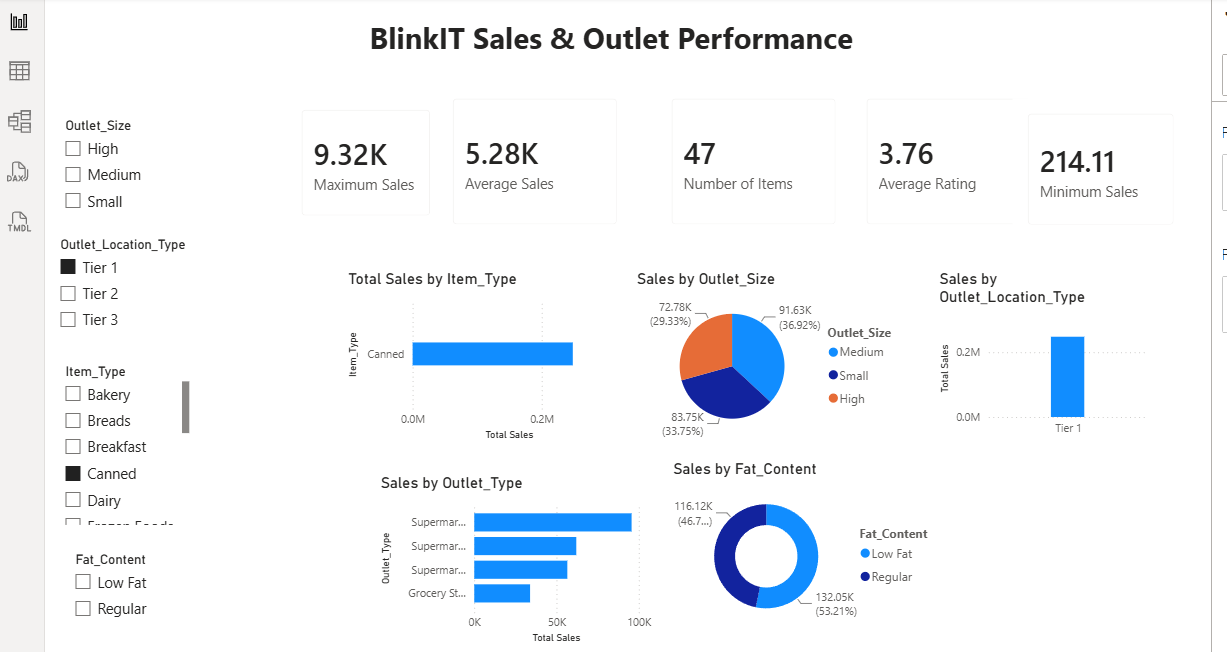

The dashboard page shown, as its layout file describes it:
{"tool":"powerbi","page":{"name":"Page 1","canvas":[1280,720],"ordinal":0},"visuals":[{"type":"cardVisual","fields":{"Data":["BlinkITData.Average Sales"]},"box":[430.9,94.7,214.1,172.9],"z":0},{"type":"cardVisual","fields":{"Data":["BlinkITData.Number of Items"]},"box":[671,94.7,214.1,172.9],"z":1000},{"type":"cardVisual","fields":{"Data":["BlinkITData.Average Rating"]},"box":[885.1,94.7,214.1,172.9],"z":2000},{"type":"donutChart","title":"Sales by Fat_Content","fields":{"Category":["BlinkITData.Fat_Content"],"Y":["BlinkITData.Total Sales"]},"box":[684.7,507.7,307.4,192.1],"z":3000},{"type":"clusteredBarChart","fields":{"Category":["BlinkITData.Item_Type"],"Y":["BlinkITData.Total Sales"]},"box":[328,299.1,307.4,192.1],"z":4000},{"type":"pieChart","title":"Sales by Outlet_Size","fields":{"Category":["BlinkITData.Outlet_Size"],"Y":["BlinkITData.Total Sales"]},"box":[645,299,307,192],"z":5000},{"type":"clusteredColumnChart","title":"Sales by Outlet_Location_Type","fields":{"Category":["BlinkITData.Outlet_Location_Type"],"Y":["BlinkITData.Total Sales"]},"box":[977,299.1,238.8,192.1],"z":6000},{"type":"clusteredBarChart","title":"Sales by Outlet_Type","fields":{"Category":["BlinkITData.Outlet_Type"],"Y":["BlinkITData.Total Sales"]},"box":[363.6,522.8,307.4,192.1],"z":7000},{"type":"slicer","fields":{"Values":["BlinkITData.Outlet_Size"]},"box":[9.6,127.6,175.6,123.5],"z":8000},{"type":"slicer","fields":{"Values":["BlinkITData.Outlet_Location_Type"]},"box":[4.1,258,181.1,137.2],"z":9000},{"type":"slicer","fields":{"Values":["BlinkITData.Item_Type"]},"box":[9.6,397.9,153.7,186.6],"z":10000},{"type":"slicer","fields":{"Values":["BlinkITData.Fat_Content"]},"box":[20.6,603.8,153.7,111.1],"z":11000},{"type":"cardVisual","fields":{"Data":["BlinkITData.Maximum Sales"]},"box":[264.8,107,175.6,150.9],"z":12000},{"type":"cardVisual","fields":{"Data":["BlinkITData.Minimum Sales"]},"box":[1062.1,111.1,194.9,156.4],"z":13000},{"type":"textbox","box":[37,17.8,1169.1,89.2],"z":13001}]}

Visuals, with their boxes on the page's 1280x720 design canvas (x1, y1, x2, y2). These are canvas units, not pixel positions in the 1227x652 screenshot, which may show the page scaled, cropped or inside an application window:
cardVisual - BlinkITData.Average Sales: <region>431, 95, 645, 268</region>
cardVisual - BlinkITData.Number of Items: <region>671, 95, 885, 268</region>
cardVisual - BlinkITData.Average Rating: <region>885, 95, 1099, 268</region>
"Sales by Fat_Content" donutChart: <region>685, 508, 992, 700</region>
clusteredBarChart - BlinkITData.Item_Type x BlinkITData.Total Sales: <region>328, 299, 635, 491</region>
"Sales by Outlet_Size" pieChart: <region>645, 299, 952, 491</region>
"Sales by Outlet_Location_Type" clusteredColumnChart: <region>977, 299, 1216, 491</region>
"Sales by Outlet_Type" clusteredBarChart: <region>364, 523, 671, 715</region>
slicer - BlinkITData.Outlet_Size: <region>10, 128, 185, 251</region>
slicer - BlinkITData.Outlet_Location_Type: <region>4, 258, 185, 395</region>
slicer - BlinkITData.Item_Type: <region>10, 398, 163, 584</region>
slicer - BlinkITData.Fat_Content: <region>21, 604, 174, 715</region>
cardVisual - BlinkITData.Maximum Sales: <region>265, 107, 440, 258</region>
cardVisual - BlinkITData.Minimum Sales: <region>1062, 111, 1257, 268</region>
textbox: <region>37, 18, 1206, 107</region>
